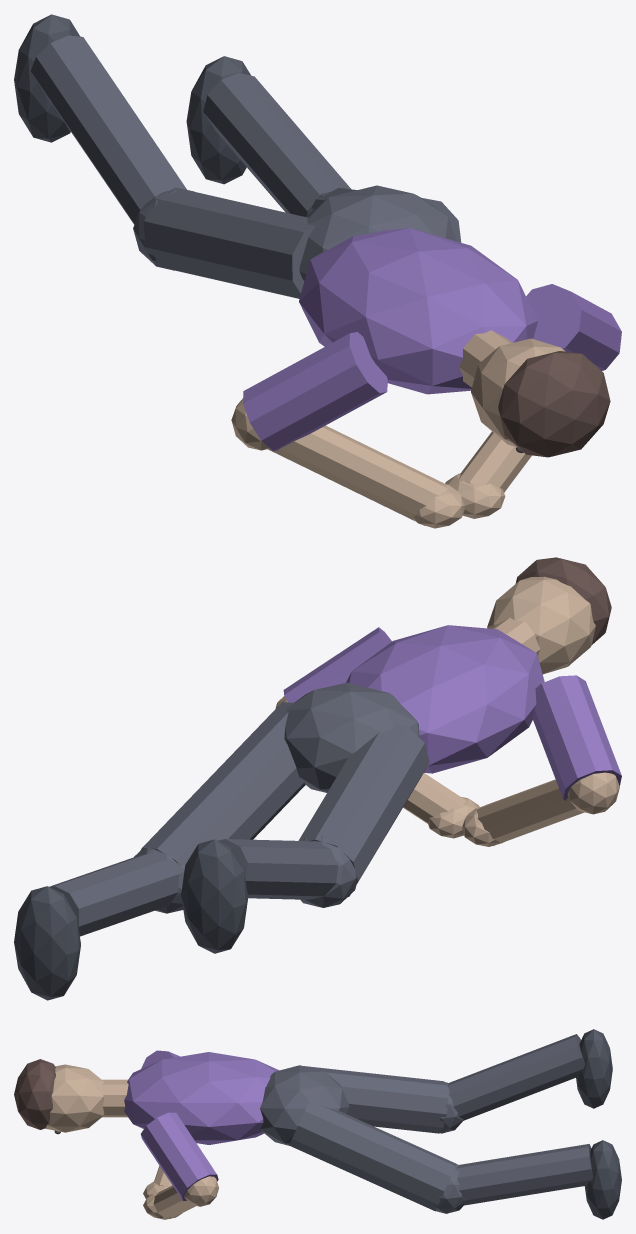
3 renders of one model, top to bottom at view 1: azimuth 30°, elevation 25°; view 2: azimuth 150°, elevation 25°; view 3: azimuth 270°, elevation 25°, orthographic. The views are drawn at different scales.
Visible parts, largest first — view 1: world; view 2: world; view 3: world.
Boxes of the visible parts, box(x1,y1,x2,y2) form: world: box(14, 14, 621, 528); world: box(14, 557, 621, 1000); world: box(14, 1029, 621, 1219).
Size of the model in its own units: 0.93 by 0.6213 by 2.07.
